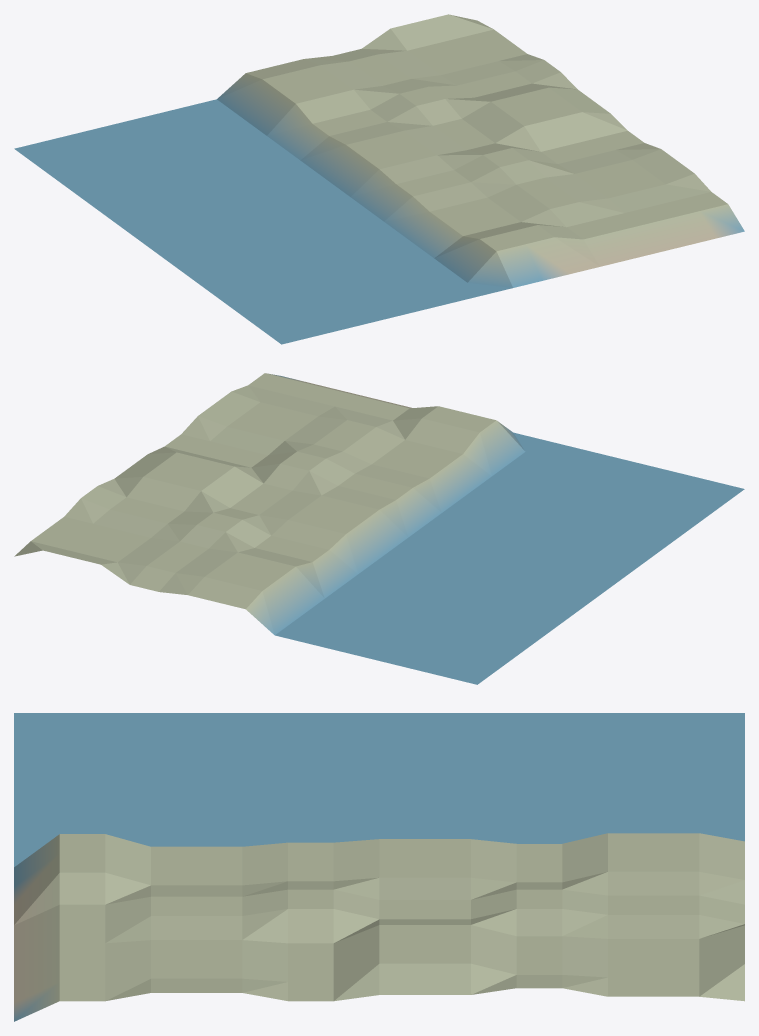
3 renders of one model, top to bottom at view 1: azimuth 30°, elevation 25°; view 2: azimuth 150°, elevation 25°; view 3: azimuth 270°, elevation 25°, orthographic. The views are drawn at different scales.
Size of the model in its own units: 32 by 1.89 by 32.
